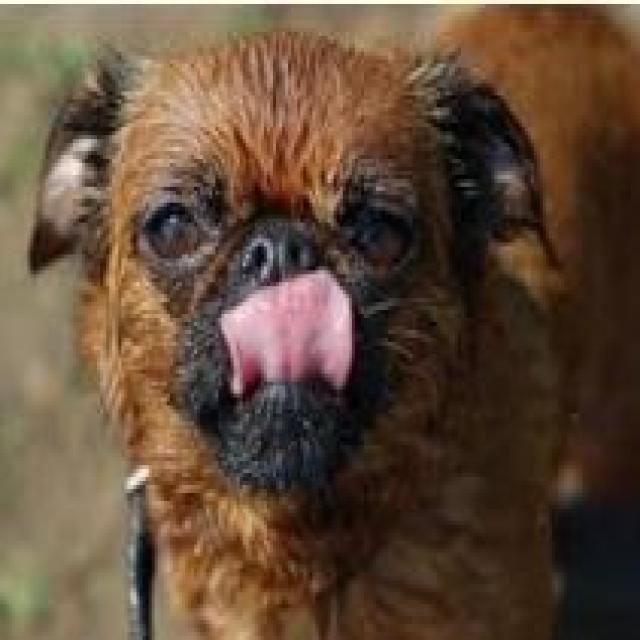Perro: (27, 16, 634, 636)
